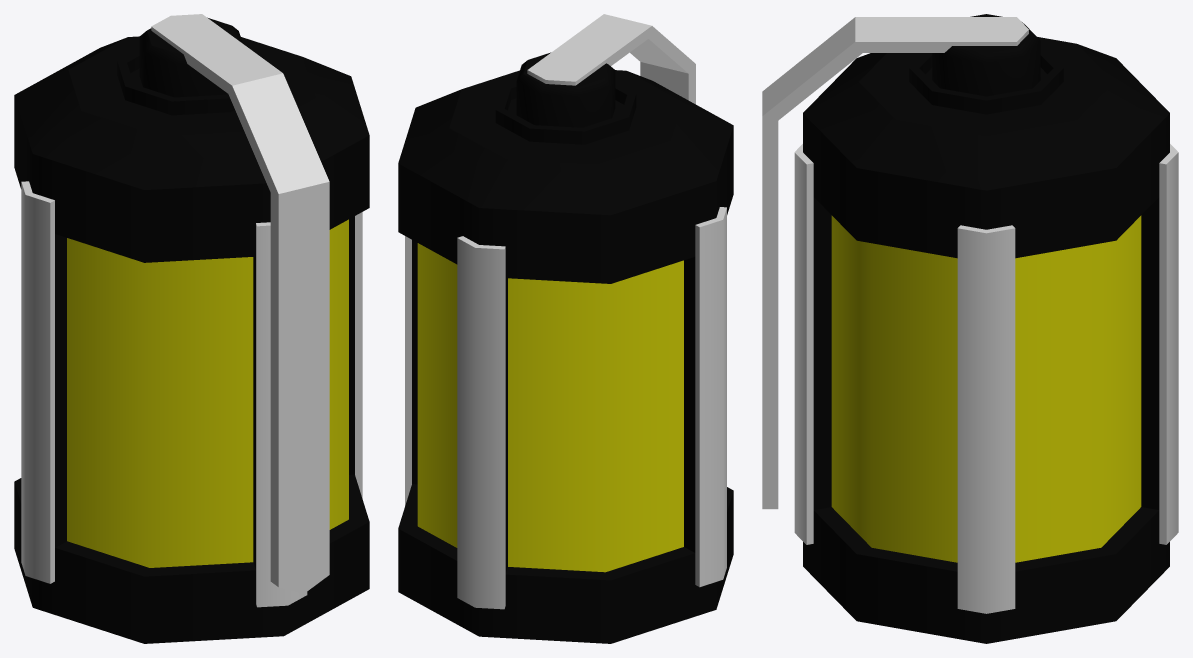
Rendered from Explosive.fbx.
3 views of the same model, side by side, from view 1: azimuth 30°, elevation 25°; view 2: azimuth 150°, elevation 25°; view 3: azimuth 270°, elevation 25° (orthographic). The views are drawn at different scales.
Parts seen in each view (by area): view 1: ExplosiveBody, ExplosiveHandle; view 2: ExplosiveBody, ExplosiveHandle; view 3: ExplosiveBody, ExplosiveHandle.
Boxes of the visible parts, x1,y1,x2,y2 form: ExplosiveBody: (14, 17, 369, 643); ExplosiveHandle: (151, 14, 329, 593); ExplosiveBody: (398, 52, 733, 643); ExplosiveHandle: (527, 14, 695, 104); ExplosiveBody: (794, 14, 1178, 643); ExplosiveHandle: (762, 17, 1028, 509).
Size of the model in its own units: 1.92 by 2.97 by 2.08.
